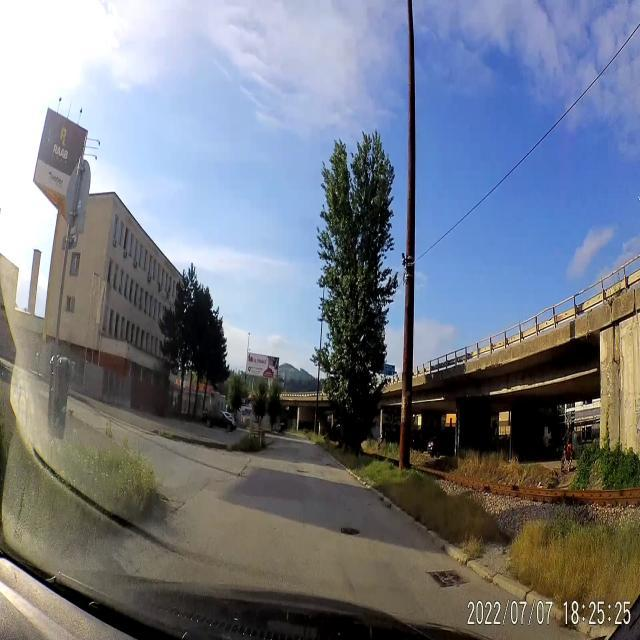Manhole: (426, 560, 468, 596)
Pothole: (337, 517, 361, 545), (295, 466, 311, 476)
